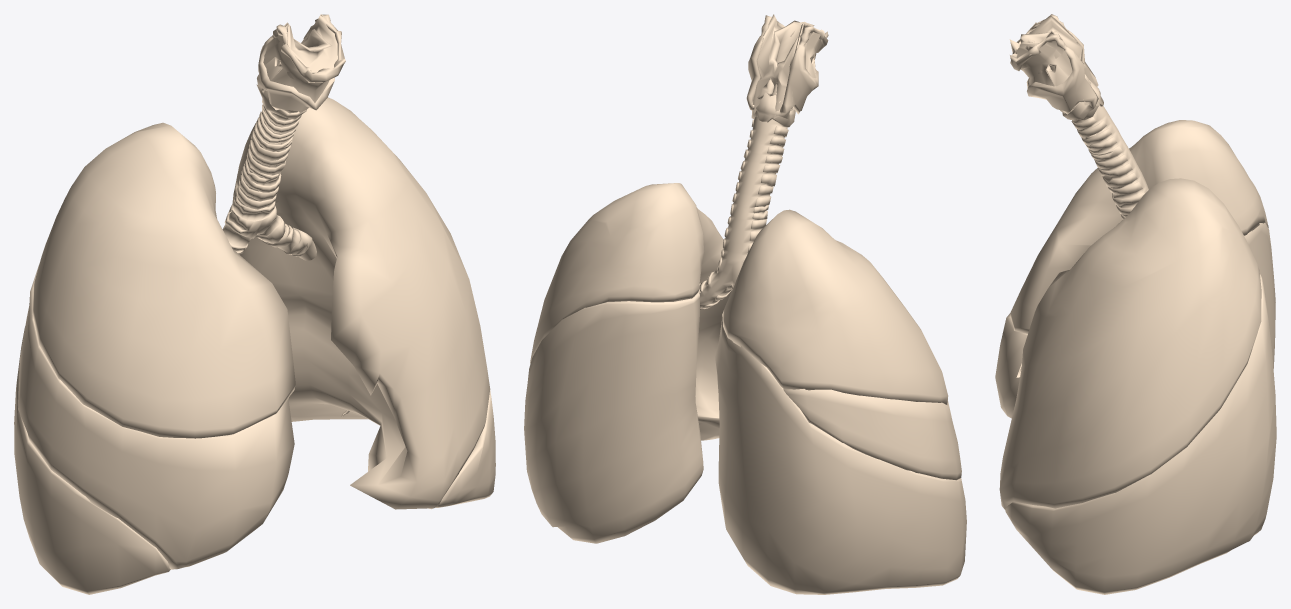
File: lung.glb
3 views of the same model, side by side, from view 1: azimuth 30°, elevation 25°; view 2: azimuth 150°, elevation 25°; view 3: azimuth 270°, elevation 25° (orthographic). The views are drawn at different scales.
Visible parts, largest first — view 1: Respiratoy_Lung_Geo_Right_Male_Anatomy_Pack_Complete_V05:Mal, Respiratoy_Lung_Geo_Left_Male_Anatomy_Pack_Complete_V05:Male, Respiratoy_Trachea_Geo_Male_Anatomy_Pack_Complete_V05:Male_R, Respiratoy_Thyroid_Cartliage_Geo_Male_Anatomy_Pack_Complete_, Respiratoy_Epiglotis_Geo_Male_Anatomy_Pack_Complete_V05:Male, Respiratoy_Thyroid_Membrane_Geo_Male_Anatomy_Pack_Complete_V; view 2: Respiratoy_Lung_Geo_Right_Male_Anatomy_Pack_Complete_V05:Mal, Respiratoy_Lung_Geo_Left_Male_Anatomy_Pack_Complete_V05:Male, Respiratoy_Trachea_Geo_Male_Anatomy_Pack_Complete_V05:Male_R, Respiratoy_Thyroid_Cartliage_Geo_Male_Anatomy_Pack_Complete_, Respiratoy_Epiglotis_Geo_Male_Anatomy_Pack_Complete_V05:Male; view 3: Respiratoy_Lung_Geo_Left_Male_Anatomy_Pack_Complete_V05:Male, Respiratoy_Lung_Geo_Right_Male_Anatomy_Pack_Complete_V05:Mal, Respiratoy_Trachea_Geo_Male_Anatomy_Pack_Complete_V05:Male_R, Respiratoy_Thyroid_Cartliage_Geo_Male_Anatomy_Pack_Complete_, Respiratoy_Thyroid_Membrane_Geo_Male_Anatomy_Pack_Complete_V, Respiratoy_Epiglotis_Geo_Male_Anatomy_Pack_Complete_V05:Male.
Part boxes in pixels (x1,y1,x2,y2): Respiratoy_Lung_Geo_Right_Male_Anatomy_Pack_Complete_V05:Mal: (14,122,295,594); Respiratoy_Lung_Geo_Left_Male_Anatomy_Pack_Complete_V05:Male: (232,97,495,509); Respiratoy_Trachea_Geo_Male_Anatomy_Pack_Complete_V05:Male_R: (222,104,316,260); Respiratoy_Thyroid_Cartliage_Geo_Male_Anatomy_Pack_Complete_: (256,14,345,119); Respiratoy_Epiglotis_Geo_Male_Anatomy_Pack_Complete_V05:Male: (263,14,337,90); Respiratoy_Thyroid_Membrane_Geo_Male_Anatomy_Pack_Complete_V: (263,32,329,102); Respiratoy_Lung_Geo_Right_Male_Anatomy_Pack_Complete_V05:Mal: (715,209,966,594); Respiratoy_Lung_Geo_Left_Male_Anatomy_Pack_Complete_V05:Male: (524,183,731,543); Respiratoy_Trachea_Geo_Male_Anatomy_Pack_Complete_V05:Male_R: (699,116,788,310); Respiratoy_Thyroid_Cartliage_Geo_Male_Anatomy_Pack_Complete_: (746,15,828,127); Respiratoy_Epiglotis_Geo_Male_Anatomy_Pack_Complete_V05:Male: (752,14,814,118); Respiratoy_Lung_Geo_Left_Male_Anatomy_Pack_Complete_V05:Male: (999,178,1276,594); Respiratoy_Lung_Geo_Right_Male_Anatomy_Pack_Complete_V05:Mal: (995,120,1275,418); Respiratoy_Trachea_Geo_Male_Anatomy_Pack_Complete_V05:Male_R: (1071,106,1148,219); Respiratoy_Thyroid_Cartliage_Geo_Male_Anatomy_Pack_Complete_: (1009,14,1103,120); Respiratoy_Thyroid_Membrane_Geo_Male_Anatomy_Pack_Complete_V: (1020,41,1072,86); Respiratoy_Epiglotis_Geo_Male_Anatomy_Pack_Complete_V05:Male: (1015,15,1099,105).
Size of the model in its own units: 0.2891 by 0.3325 by 0.1766.
